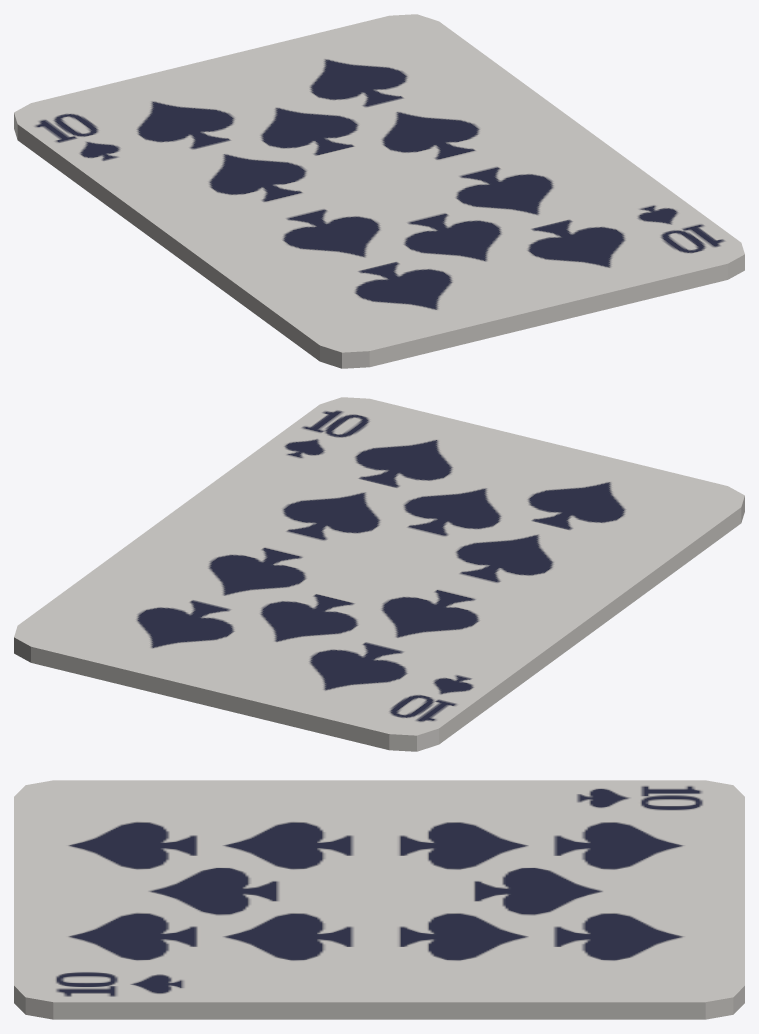
Rendered from SM_Item_Playing_Card_10.fbx.
3 views of the same model, one above another, from view 1: azimuth 30°, elevation 25°; view 2: azimuth 150°, elevation 25°; view 3: azimuth 270°, elevation 25° (orthographic). The views are drawn at different scales.
Parts seen in each view (by area): view 1: SM_Item_Playing_Card_10; view 2: SM_Item_Playing_Card_10; view 3: SM_Item_Playing_Card_10.
Boxes of the visible parts, x1,y1,x2,y2 form: SM_Item_Playing_Card_10: (14, 14, 744, 368); SM_Item_Playing_Card_10: (14, 397, 744, 751); SM_Item_Playing_Card_10: (14, 780, 744, 1019).
Size of the model in its own units: 11.67 by 0.4281 by 16.24.
